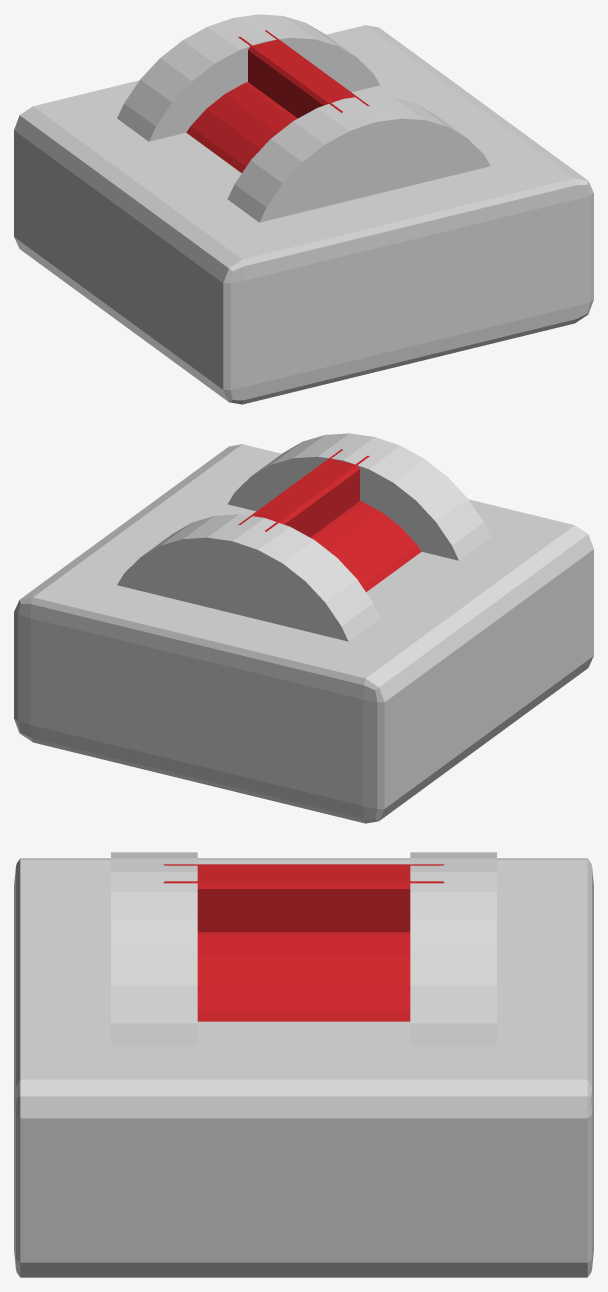
The model's file is flipswitch.fbx.
3 renders of one model, top to bottom at view 1: azimuth 30°, elevation 25°; view 2: azimuth 150°, elevation 25°; view 3: azimuth 270°, elevation 25°, orthographic. The views are drawn at different scales.
Parts seen in each view (by area): view 1: Base, Cube; view 2: Base, Cube; view 3: Base, Cube.
Boxes of the visible parts, x1,y1,x2,y2 form: Base: (14, 14, 593, 404); Cube: (186, 30, 369, 172); Base: (14, 433, 593, 823); Cube: (238, 449, 421, 591); Base: (14, 852, 593, 1277); Cube: (163, 864, 444, 1021).
Size of the model in its own units: 200 by 112 by 200.
